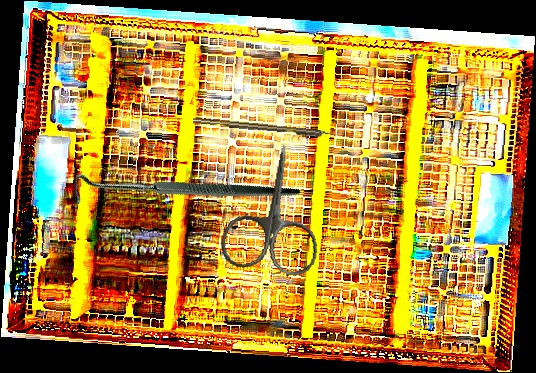Hook Surgical: (63, 89, 302, 300), (192, 116, 343, 140)
Iris Scissors: (217, 137, 334, 279)
